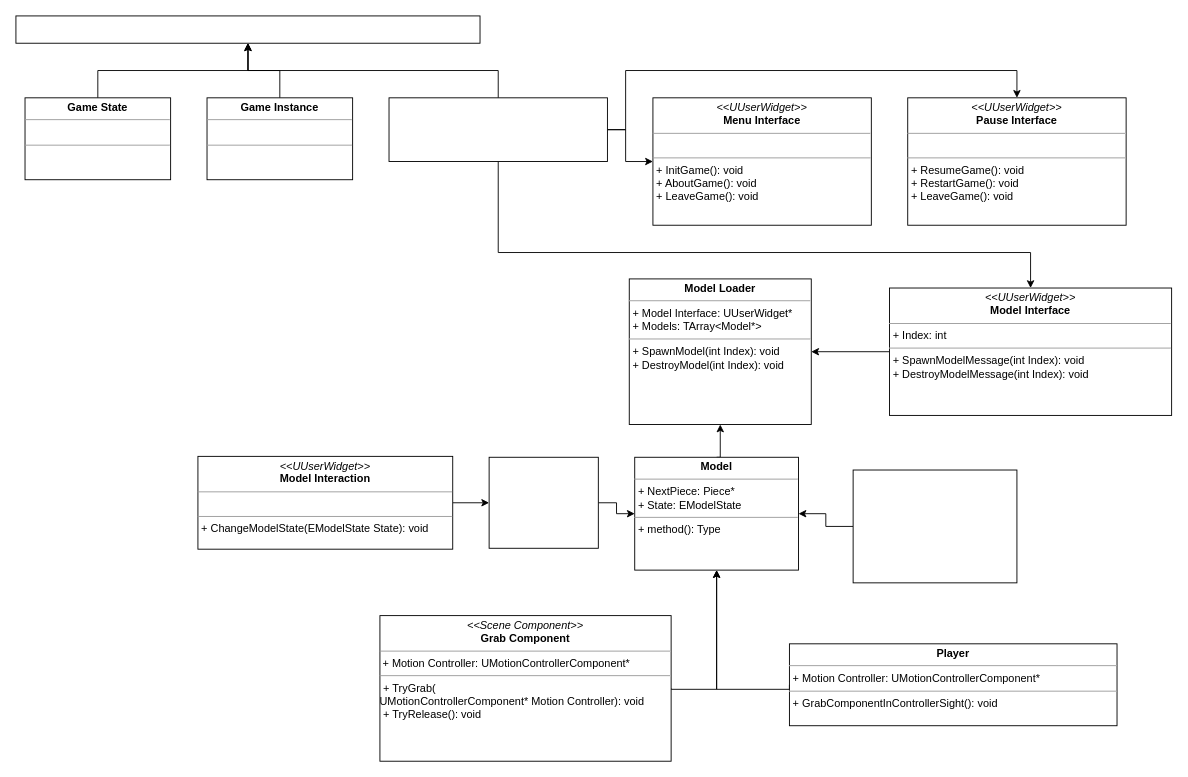
Some shapes in this 1188 by 777 pixel diagram are drawn without their labels. Each missing label, with the centre of its shape:
<<enum>> EModelState + Move + Dismantle + Mount: the point at 543,502
Interface Actor + Widget Component: UUserWidget*: the point at 497,129
Level: the point at 247,29
Piece + Value: int + bEnable: bool + Insert(): void + Remove(): void: the point at 934,526
